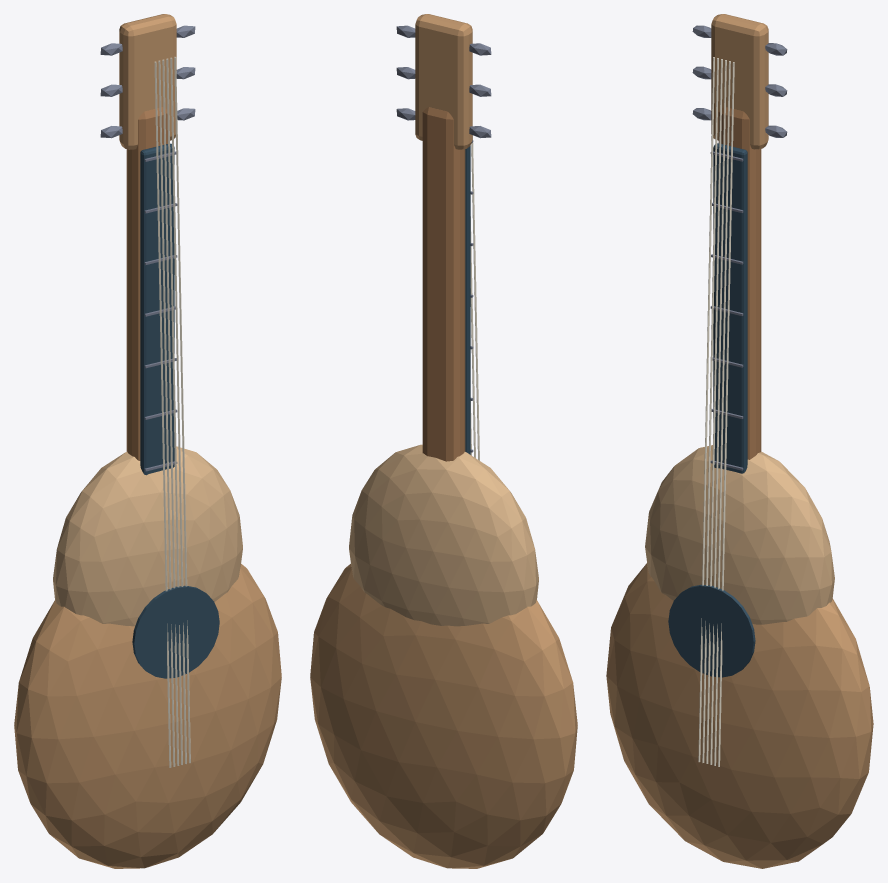
The model's file is guitar.glb.
3 views of the same model, side by side, from view 1: azimuth 30°, elevation 25°; view 2: azimuth 150°, elevation 25°; view 3: azimuth 330°, elevation 25° (orthographic).
Visible parts, largest first — view 1: guitar_Mesh; view 2: guitar_Mesh; view 3: guitar_Mesh.
Part boxes in pixels (x1,y1,x2,y2): guitar_Mesh: (14,14,281,868); guitar_Mesh: (310,14,577,868); guitar_Mesh: (606,14,873,868).
Size of the model in its own units: 0.4 by 1.23 by 0.1595.
